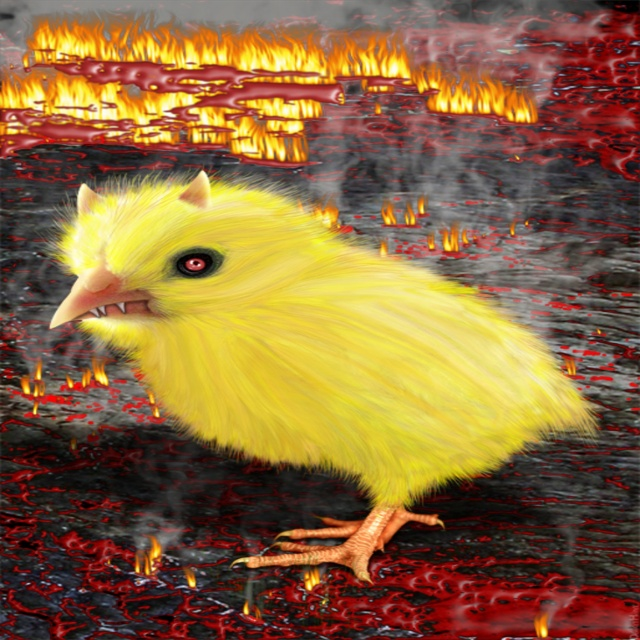Chicken: (41, 168, 567, 575)
